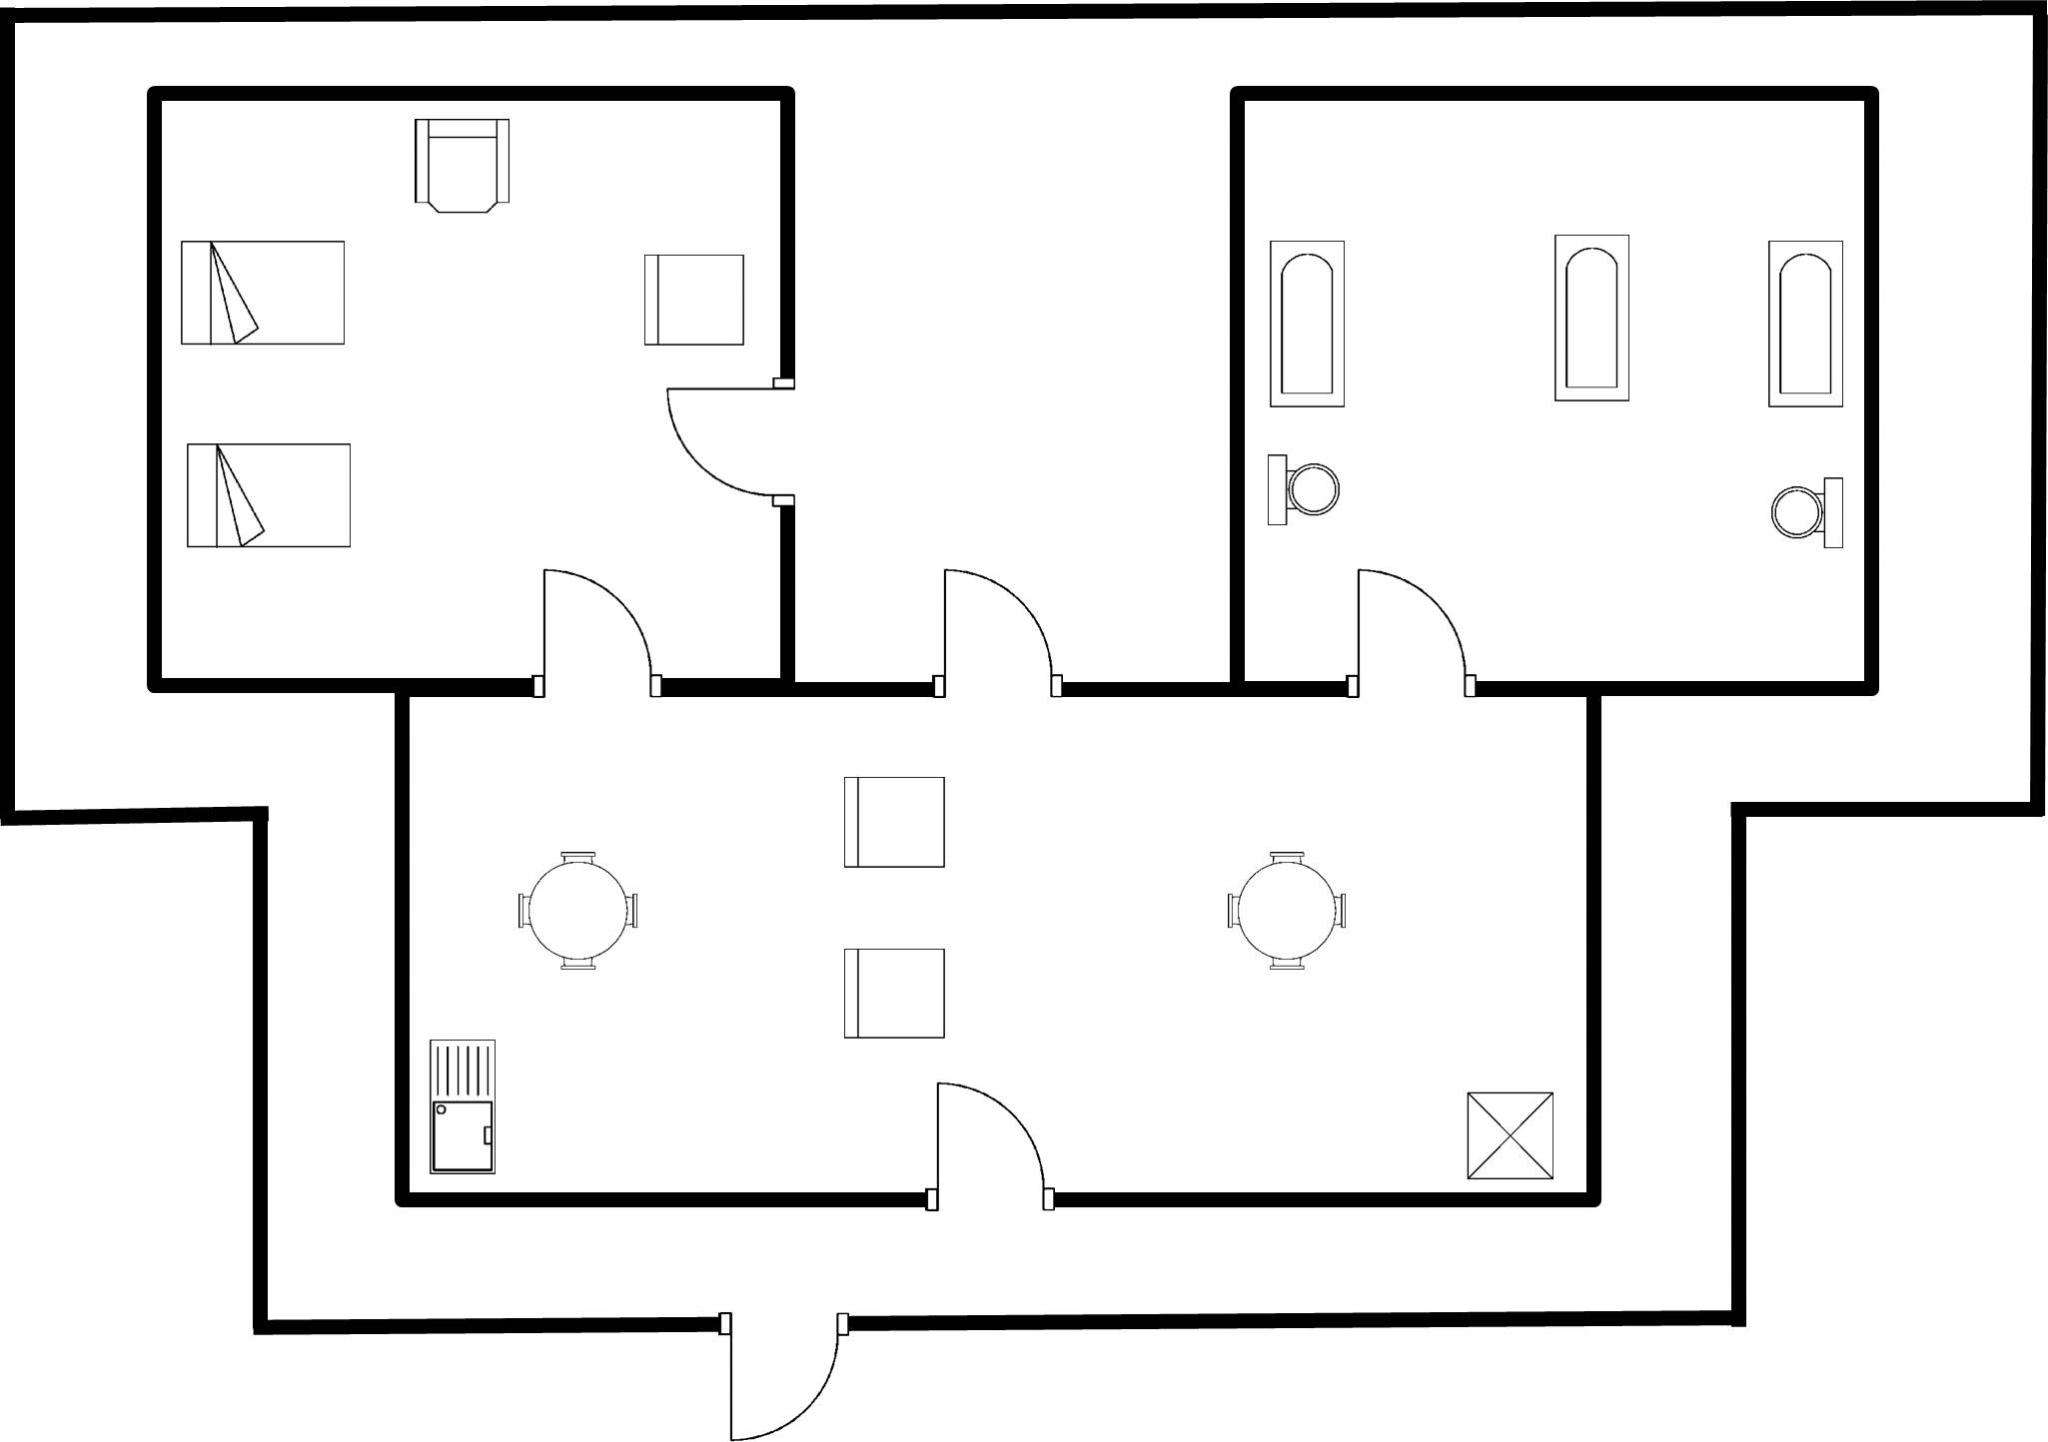bed: (170, 231, 367, 362), (175, 434, 359, 559)
round_table: (505, 838, 649, 978), (1212, 841, 1354, 982)
sink: (420, 1030, 505, 1181)
toilet: (1758, 465, 1855, 565), (1259, 448, 1341, 537)
tub: (1257, 228, 1355, 418), (1755, 229, 1856, 414), (1540, 225, 1636, 414)
